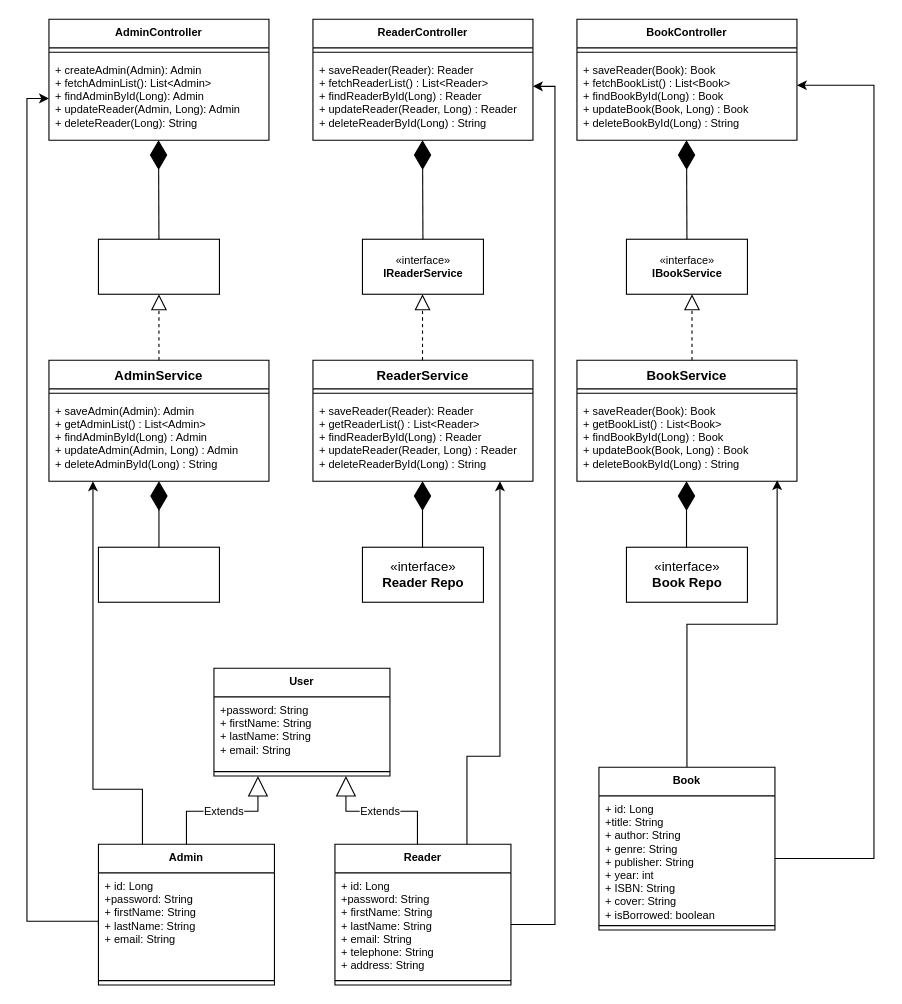
The diagram is 902 pixels wide and 1004 high, and some of its shapes have lost their labels. The shapes that lost their labels are listed below. From the top down, each one's centre as x and y in pixels, then its label:
(x=158, y=266): «interface» IAdminService
(x=158, y=574): «interface» Admin Repo
